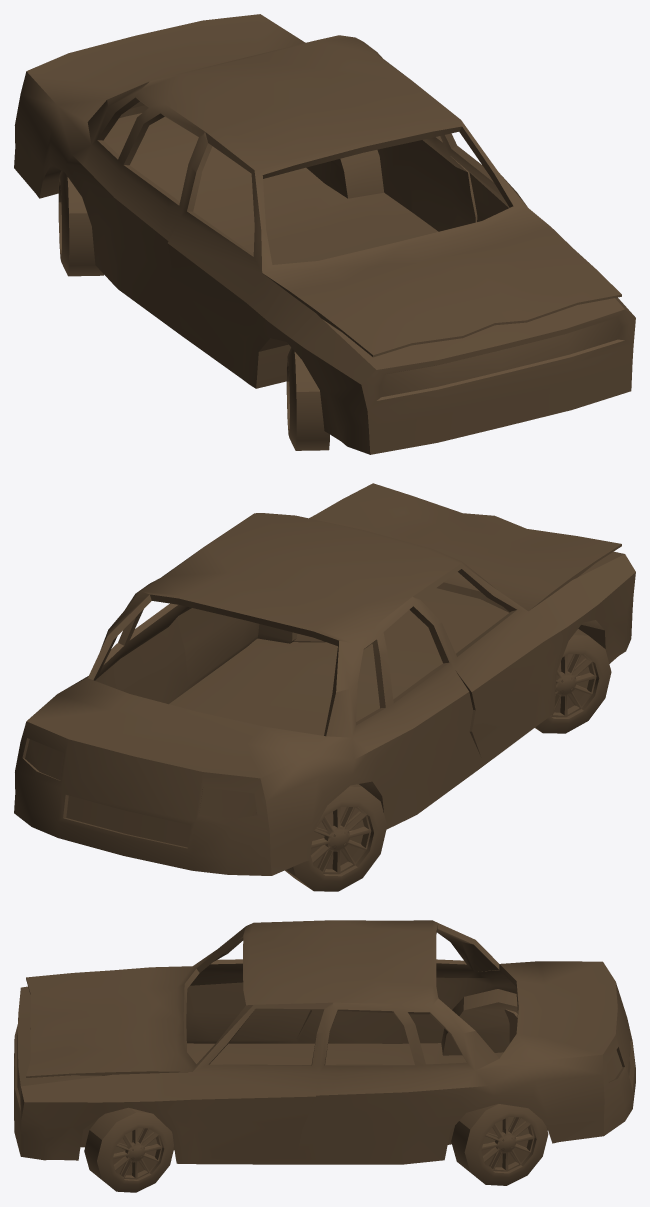
File: rotta.glb
3 views of the same model, one above another, from view 1: azimuth 30°, elevation 25°; view 2: azimuth 150°, elevation 25°; view 3: azimuth 270°, elevation 25° (orthographic). The views are drawn at different scales.
Visible parts, largest first — view 1: rotta; view 2: rotta; view 3: rotta.
Boxes of the visible parts, <box> form: rotta: <box>14,14,635,454</box>; rotta: <box>14,483,635,891</box>; rotta: <box>14,920,635,1192</box>.
Size of the model in its own units: 2.02 by 1.35 by 4.2.
